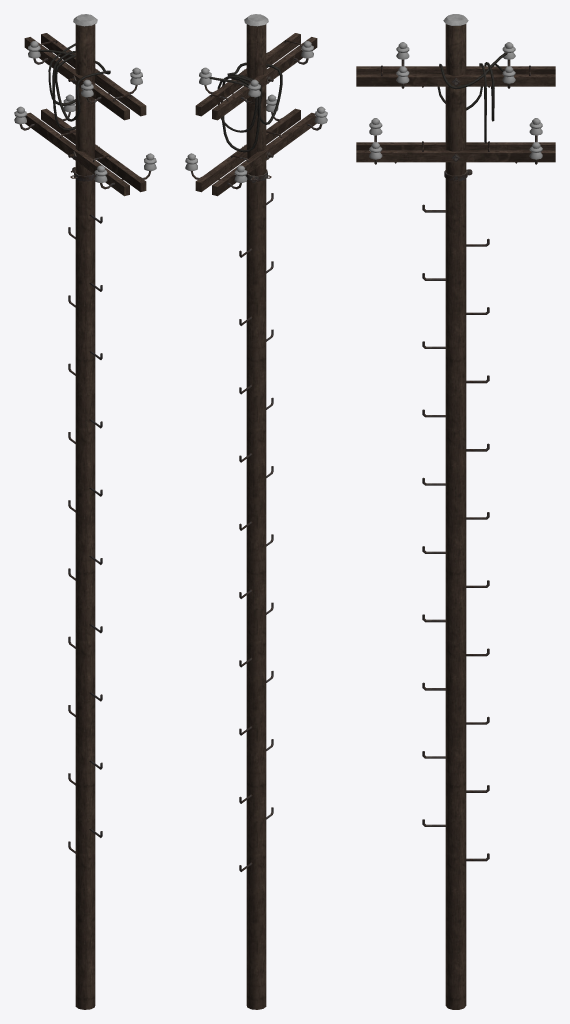
The model's file is pole_electric.glb.
The picture shows the model from 3 angles, left to right: view 1: azimuth 30°, elevation 25°; view 2: azimuth 150°, elevation 25°; view 3: azimuth 270°, elevation 25°; orthographic projection.
Visible parts, largest first — view 1: defaultMaterial (×6); view 2: defaultMaterial (×6); view 3: defaultMaterial (×6).
Boxes of the visible parts, x1,y1,x2,y2 form: defaultMaterial (×6): (24,14,146,1009); defaultMaterial (×6): (195,14,317,1009); defaultMaterial (×6): (356,14,555,1009).
Bounding box in the file's own units: 0.1282 × 2 × 0.3657.
Materials: 1 (1 with a texture image).
